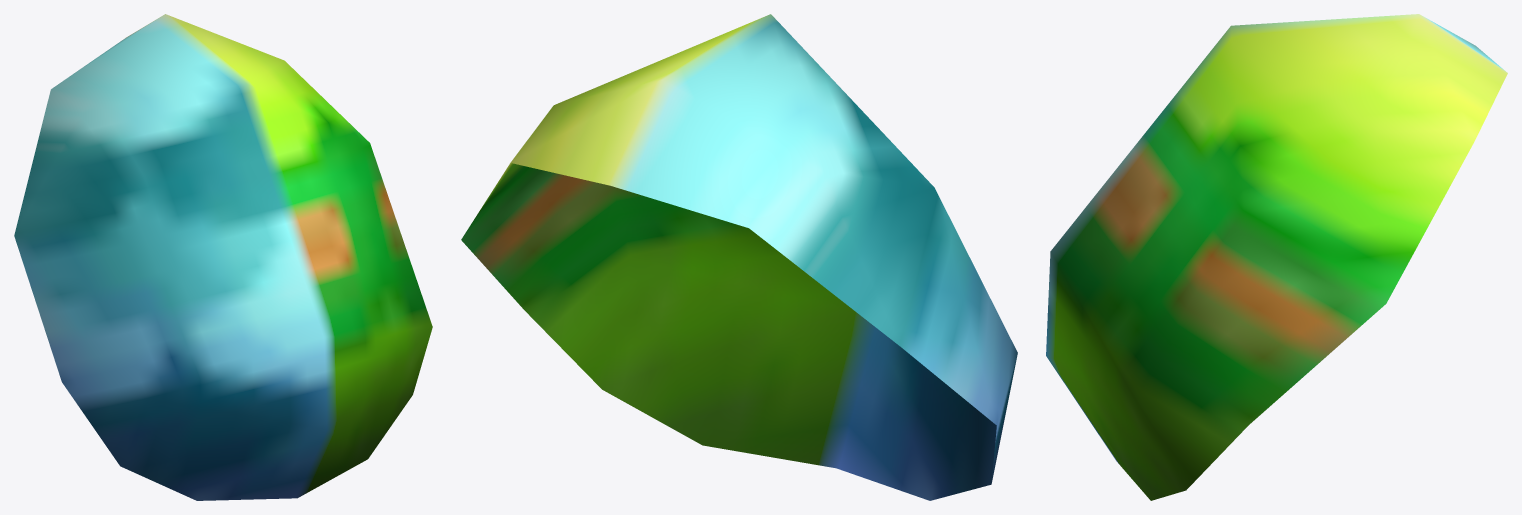
The model's file is fg_egg1_out.dae.
3 views of the same model, side by side, from view 1: azimuth 30°, elevation 25°; view 2: azimuth 150°, elevation 25°; view 3: azimuth 270°, elevation 25° (orthographic). The views are drawn at different scales.
Visible parts, largest first — view 1: fg_egg1_out; view 2: fg_egg1_out; view 3: fg_egg1_out.
Part boxes in pixels (box(x1,y1,x2,y2)): fg_egg1_out: box(14, 14, 432, 500); fg_egg1_out: box(461, 14, 1017, 500); fg_egg1_out: box(1046, 14, 1507, 500).
Bounding box in the file's own units: 11.35 × 11.86 × 11.11.
1 material, 1 textured.
